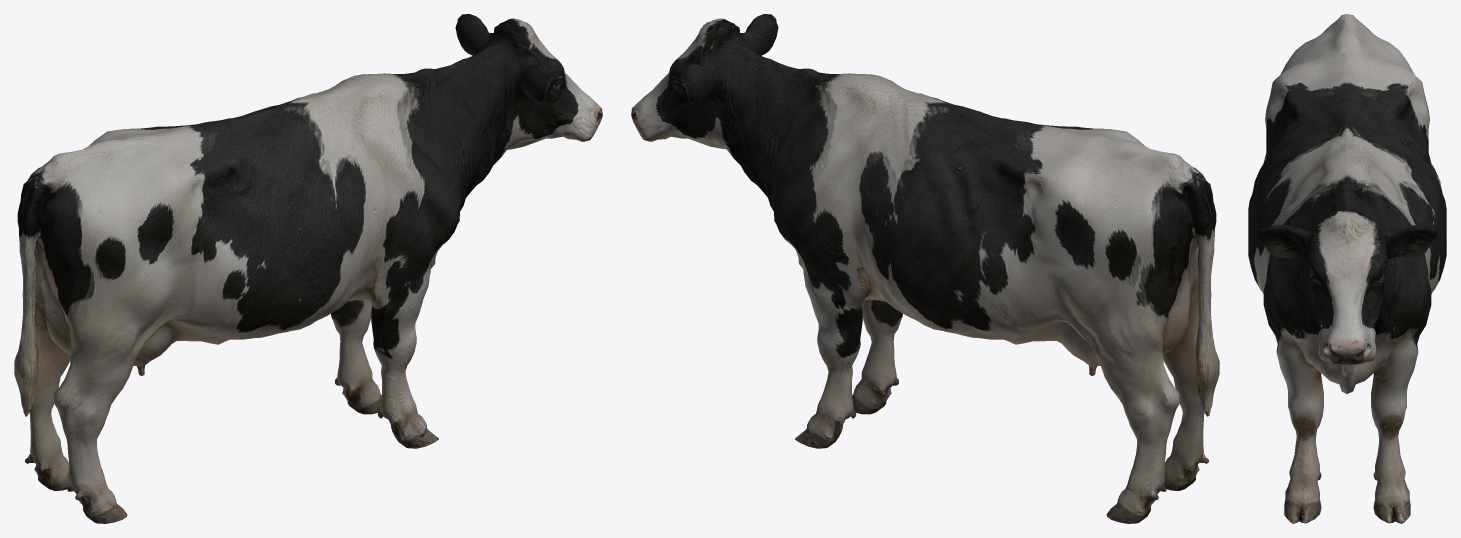
The model's file is realistic_holstein_cow_-_game_ready_asset.glb.
3 renders of one model, left to right at view 1: azimuth 30°, elevation 25°; view 2: azimuth 150°, elevation 25°; view 3: azimuth 270°, elevation 25°, orthographic. The views are drawn at different scales.
Parts seen in each view (by area): view 1: 4c8b0249-a9a8-4378-857d-d708f9b297cd_1; view 2: 4c8b0249-a9a8-4378-857d-d708f9b297cd_1; view 3: 4c8b0249-a9a8-4378-857d-d708f9b297cd_1.
Boxes of the visible parts, box(x1,y1,x2,y2) form: 4c8b0249-a9a8-4378-857d-d708f9b297cd_1: box(14, 14, 602, 523); 4c8b0249-a9a8-4378-857d-d708f9b297cd_1: box(631, 14, 1219, 523); 4c8b0249-a9a8-4378-857d-d708f9b297cd_1: box(1248, 14, 1446, 523).
Size of the model in its own units: 1 by 0.6145 by 0.3033.
Materials: 1 (1 with a texture image).
